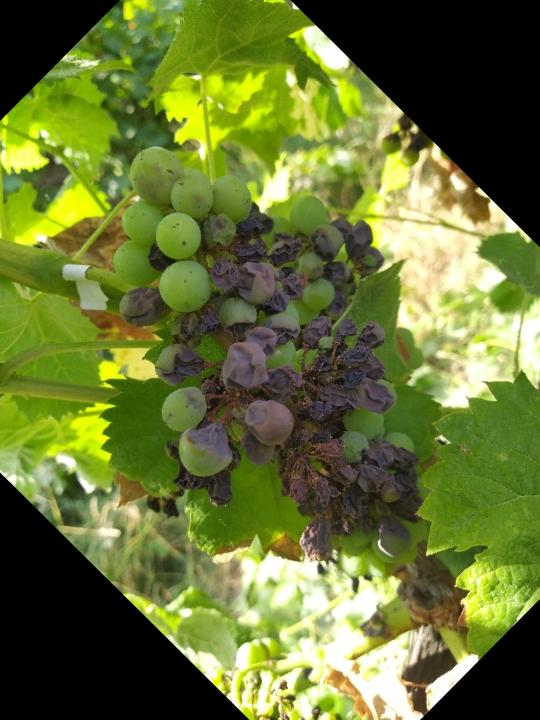grape: (0, 72, 540, 645)
